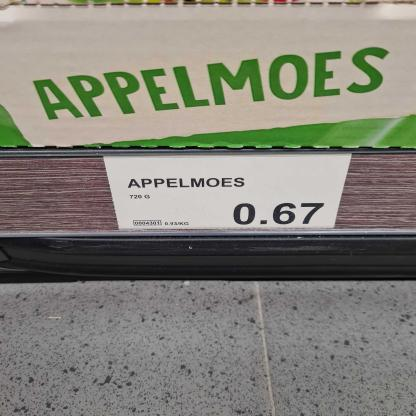prtg: (105, 155, 352, 230)
